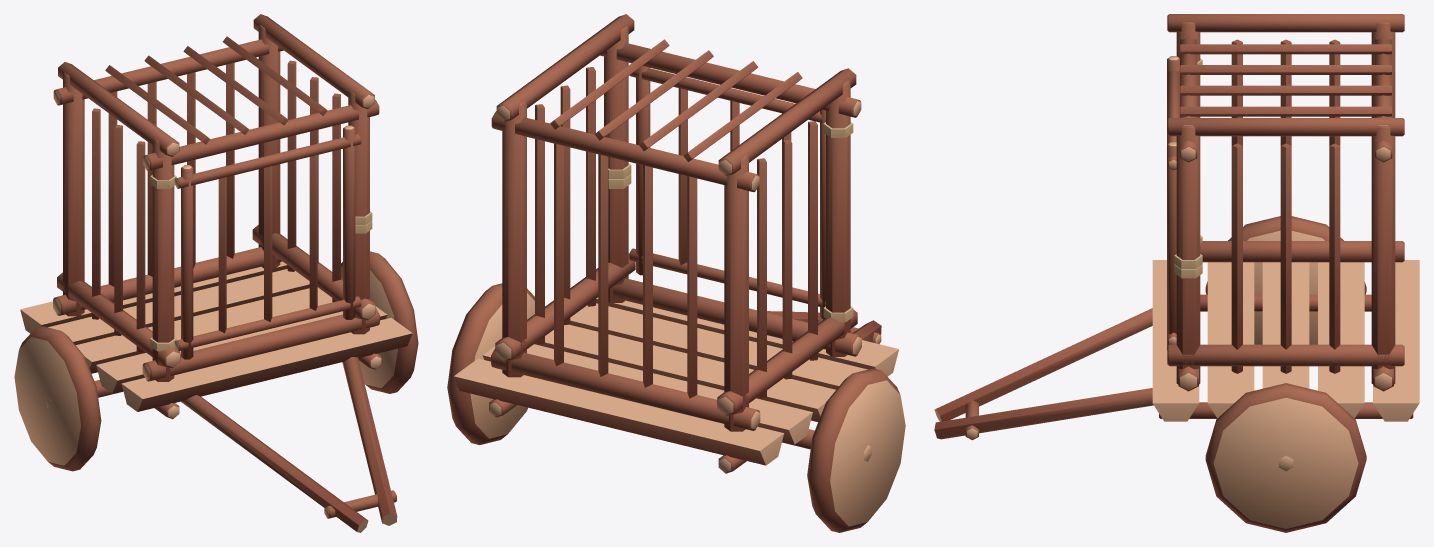
Rendered from cage_B.fbx.
3 views of the same model, side by side, from view 1: azimuth 30°, elevation 25°; view 2: azimuth 150°, elevation 25°; view 3: azimuth 270°, elevation 25° (orthographic). The views are drawn at different scales.
Parts seen in each view (by area): view 1: cage_B, cage_B_door; view 2: cage_B, cage_B_door; view 3: cage_B, cage_B_door.
Part boxes in pixels (bbox=[...]): cage_B: bbox=[14, 14, 418, 532]; cage_B_door: bbox=[174, 125, 361, 359]; cage_B: bbox=[447, 14, 905, 532]; cage_B_door: bbox=[629, 66, 825, 319]; cage_B: bbox=[934, 14, 1419, 532]; cage_B_door: bbox=[1167, 56, 1179, 350].
Bounding box in the file's own units: 1 × 0.9914 × 1.14.
1 material, 1 textured.
